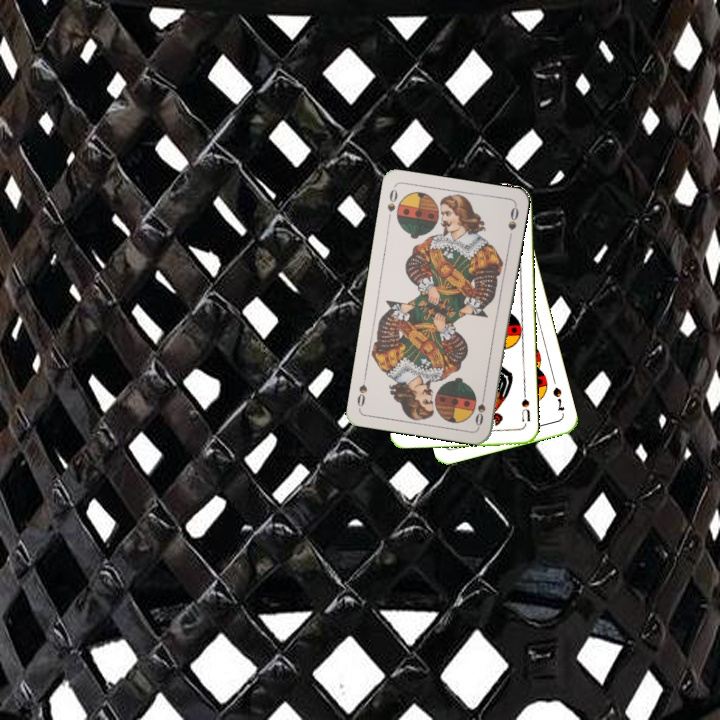S7: (549, 383, 567, 413)
SO: (471, 388, 488, 429), (383, 183, 400, 224)
SU: (518, 388, 533, 429)
